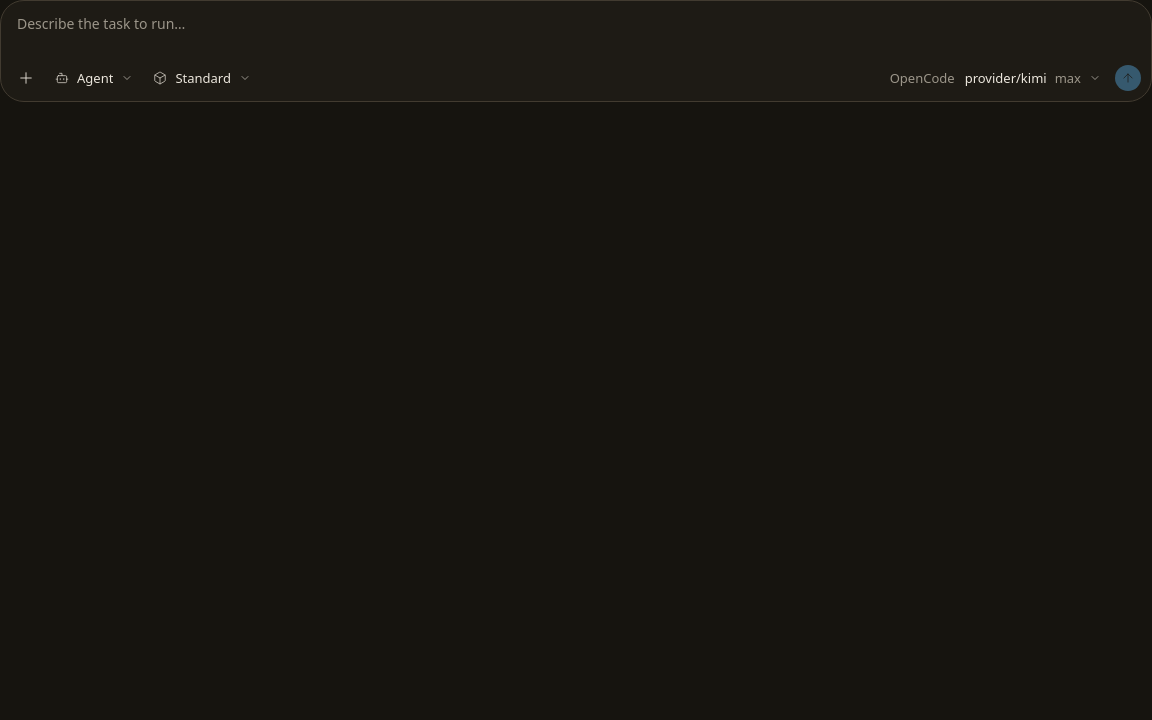
Test case: applies the effort returned with a model change, including explicit null
The width and height of the screenshot is (1152, 720).
Click the button with aria-label "Model": click(1033, 78) [959,65,1107,91]
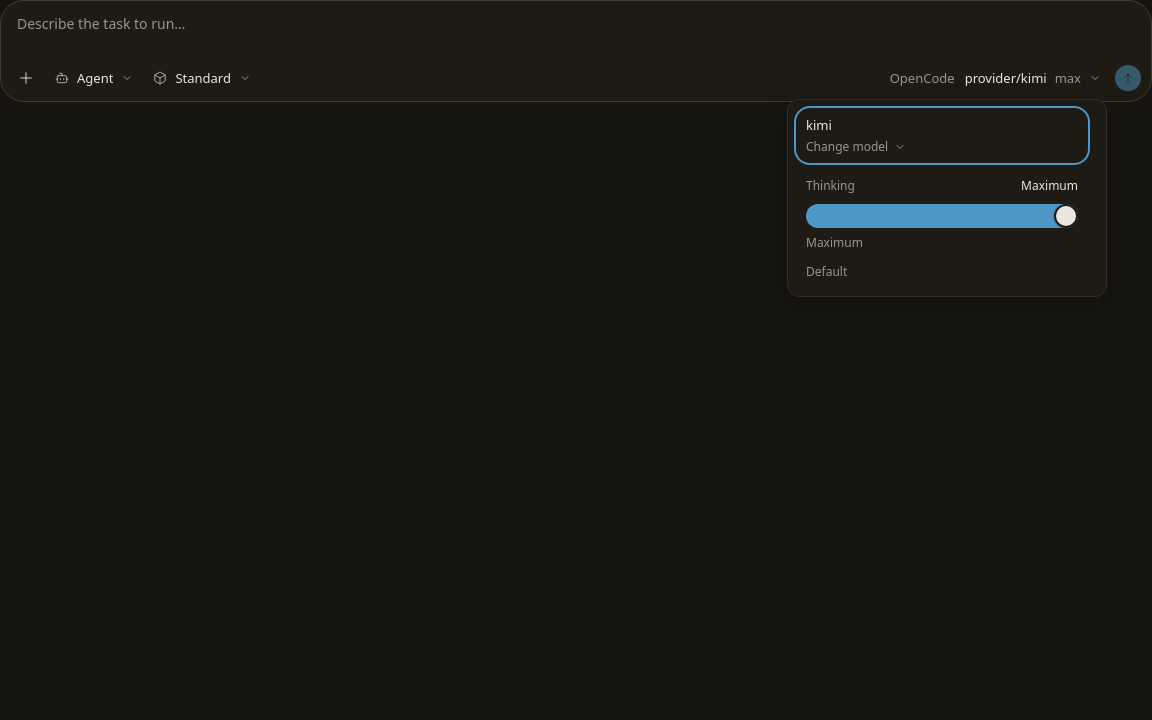
Click the button "kimi Change model": click(847, 146) [798,110,1086,161]
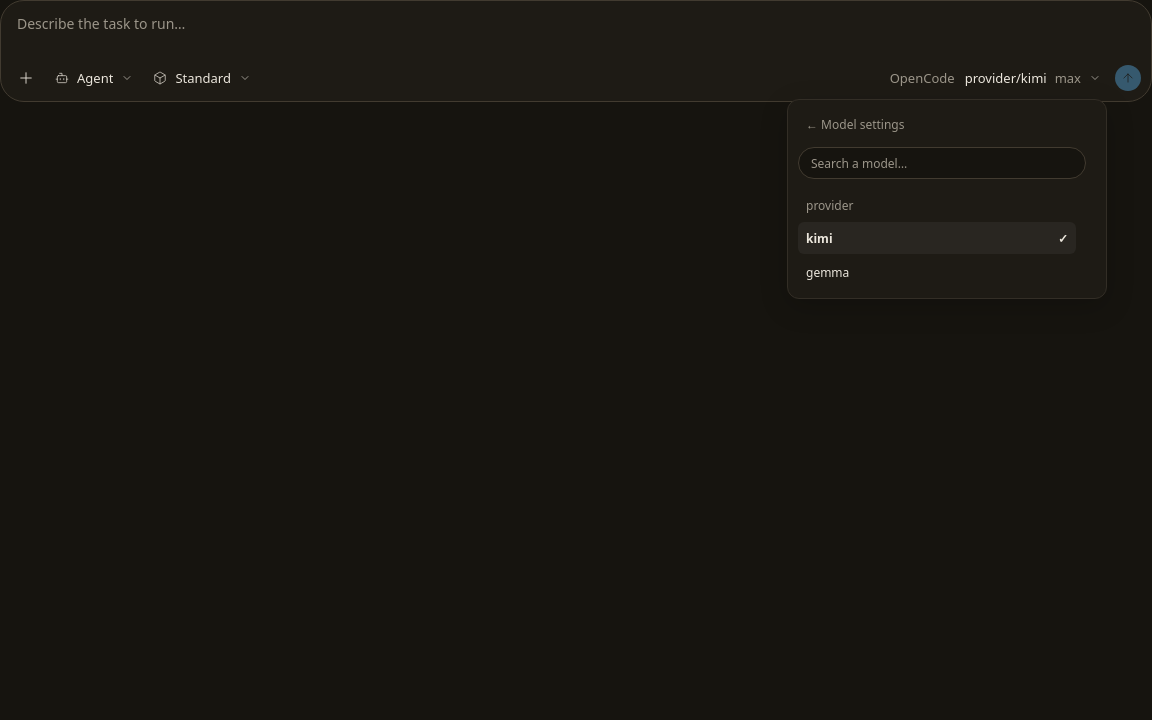
Click the button titled "provider/gemma": click(828, 272) [798,256,1076,288]
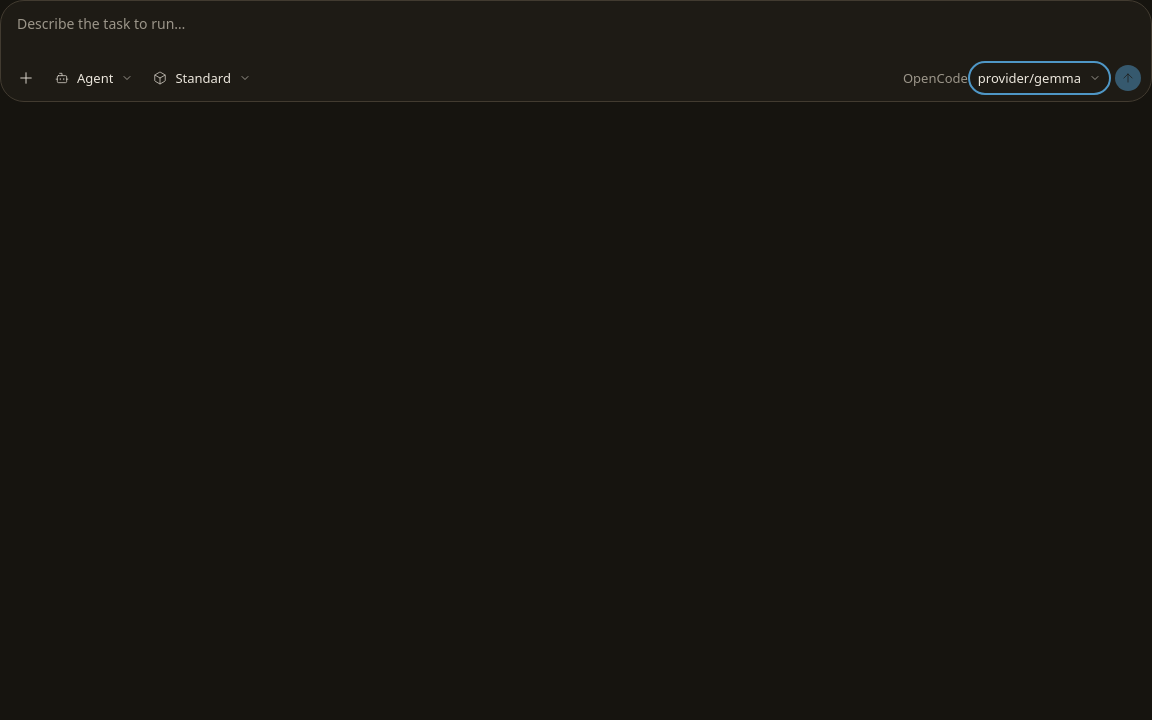
expect the text "provider/gemma" is shown: met, box [978,69,1081,87]
